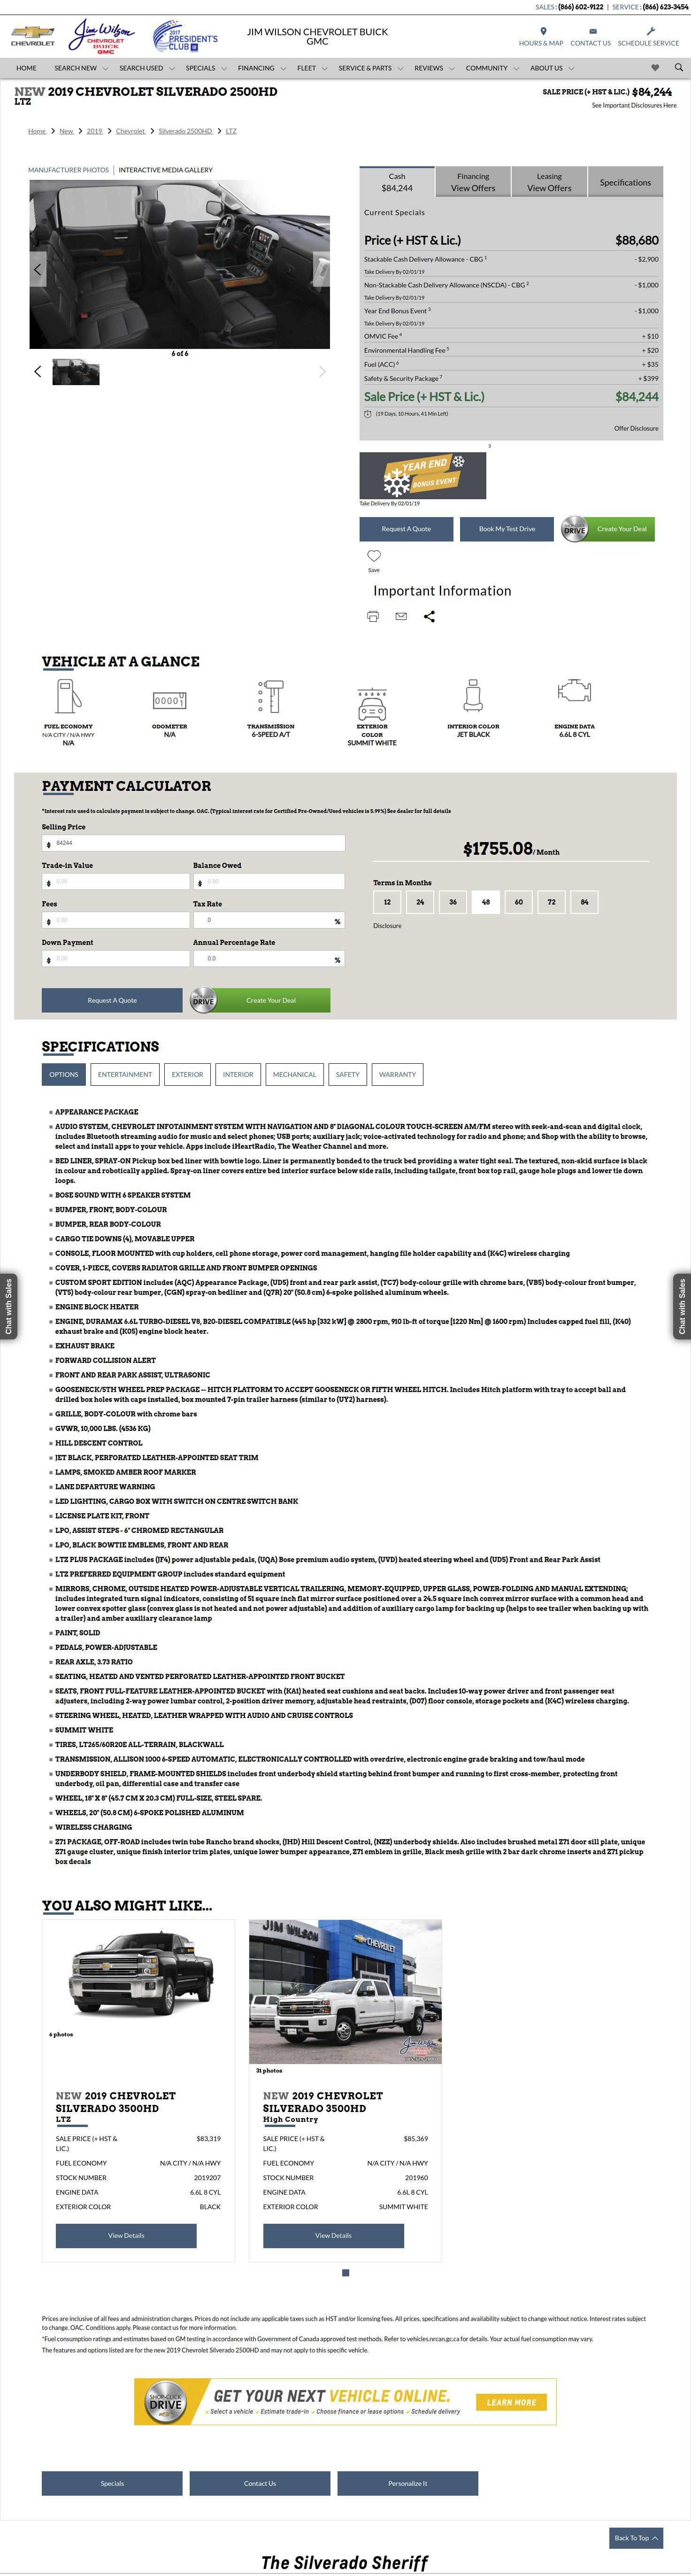car: (318, 366, 327, 379)
